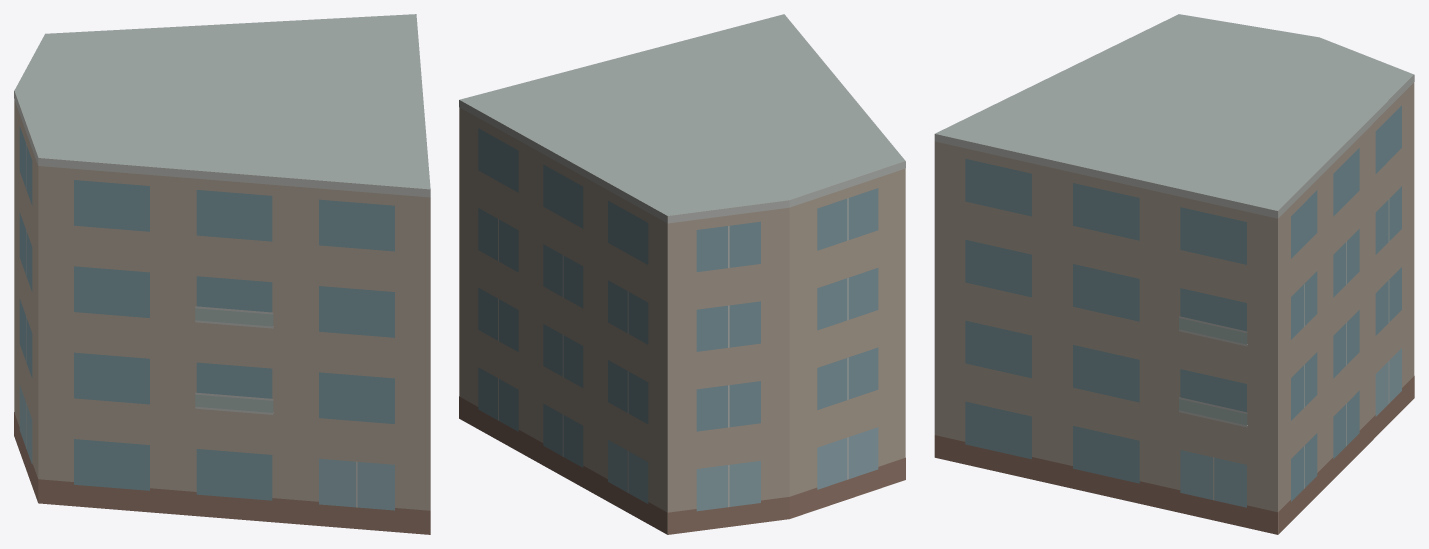
File: survey-upis-32904403.glb
3 views of the same model, side by side, from view 1: azimuth 30°, elevation 25°; view 2: azimuth 150°, elevation 25°; view 3: azimuth 270°, elevation 25° (orthographic). The views are drawn at different scales.
Parts seen in each view (by area): view 1: survey-upis-32904403.tmp; view 2: survey-upis-32904403.tmp; view 3: survey-upis-32904403.tmp.
Boxes of the visible parts, x1,y1,x2,y2 form: survey-upis-32904403.tmp: (14, 14, 430, 534); survey-upis-32904403.tmp: (459, 14, 905, 534); survey-upis-32904403.tmp: (934, 14, 1414, 534).
Size of the model in its own units: 13.72 by 10.5 by 14.11.
